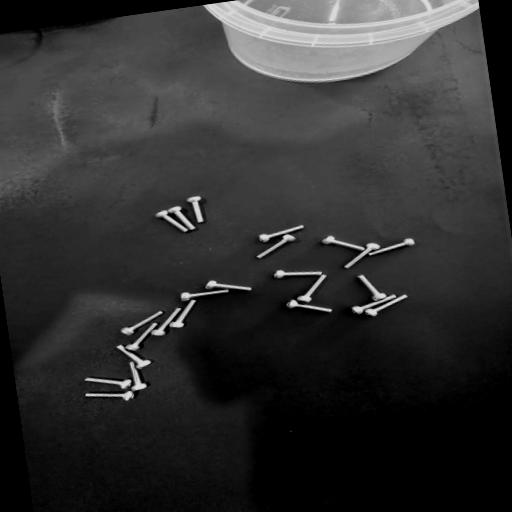Bolt: (122, 311, 163, 335), (256, 234, 296, 258), (125, 323, 159, 351), (365, 295, 408, 316), (344, 243, 380, 268), (352, 295, 396, 314), (297, 275, 326, 302), (152, 308, 181, 335), (117, 345, 151, 368), (370, 238, 415, 255), (259, 225, 304, 242), (170, 300, 196, 328), (358, 275, 386, 301), (156, 210, 188, 232), (168, 206, 196, 230), (323, 236, 364, 251), (85, 377, 131, 389), (286, 300, 331, 312), (181, 290, 229, 301), (206, 280, 252, 291), (130, 362, 147, 391), (86, 391, 135, 401), (187, 196, 204, 223), (274, 271, 322, 278)
